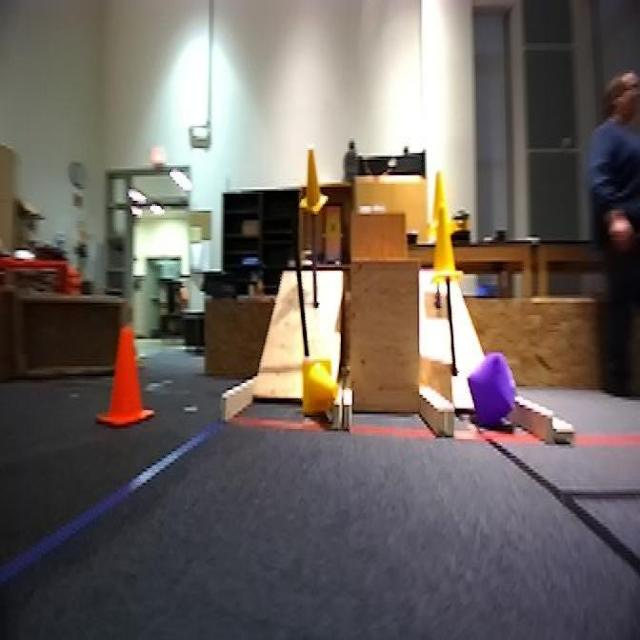frc_cone: (302, 358, 347, 420), (432, 211, 463, 279), (300, 148, 330, 215), (434, 174, 456, 238)
frc_cube: (468, 352, 514, 424)
